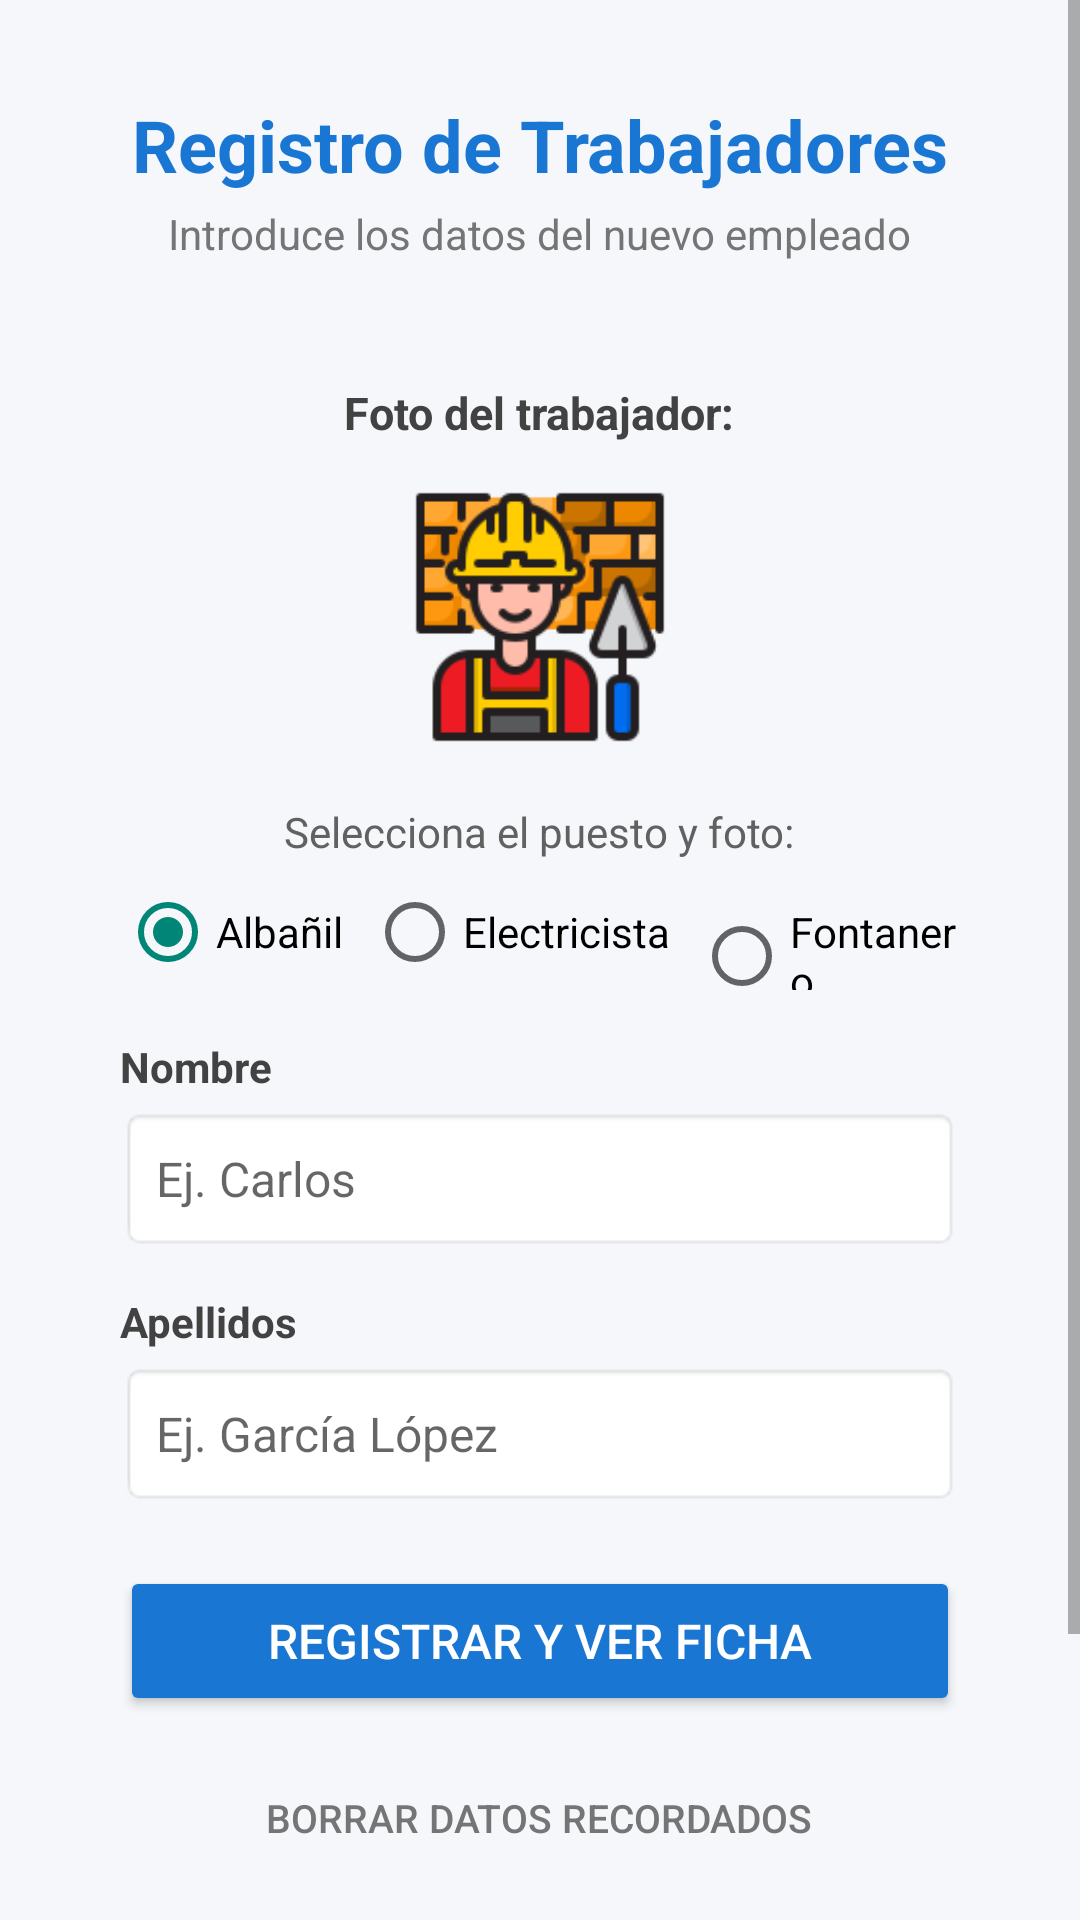

Icons on this 1080×1920 Android screen, each with its box as (x1, y1, x2, y2):
Previsualización de la foto: (415, 492, 665, 742)
